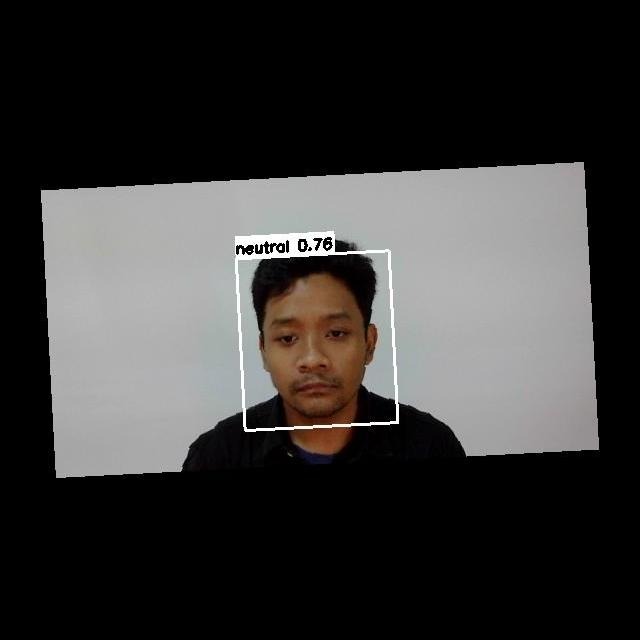Natural: (266, 322, 369, 404)
